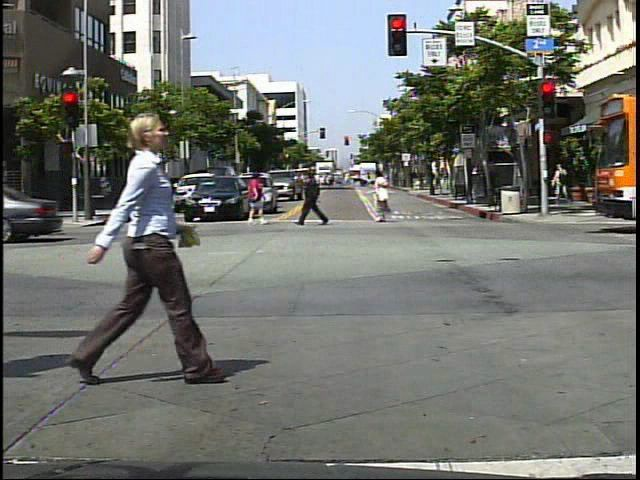person: (58, 92, 221, 403), (298, 159, 334, 232), (237, 168, 269, 227), (369, 166, 398, 227), (553, 160, 572, 205)
